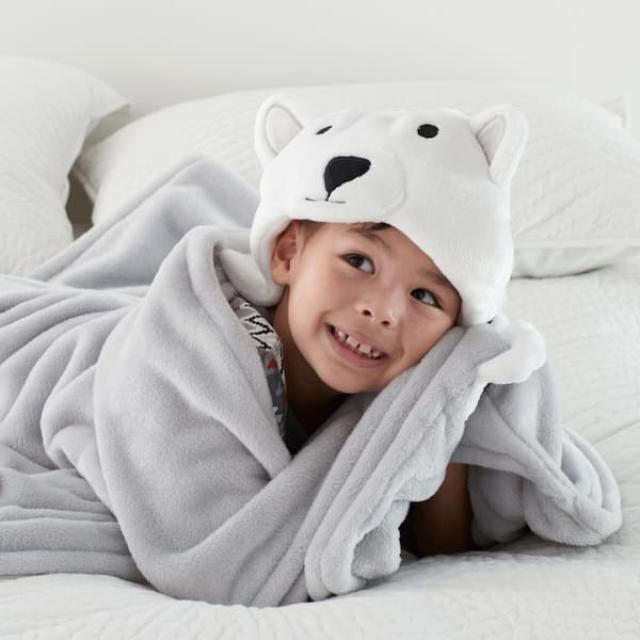blanket: (0, 160, 620, 606)
